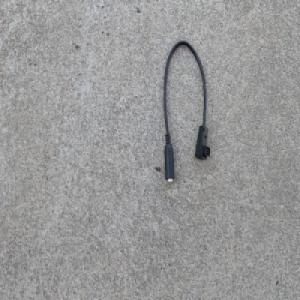Wire: (160, 37, 210, 185)
